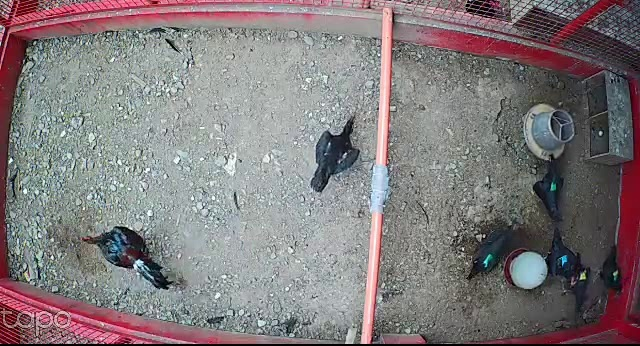Chicken: (307, 116, 362, 195), (531, 154, 567, 223), (546, 228, 581, 291), (465, 232, 508, 281), (588, 244, 626, 298), (560, 251, 591, 313)
Drinker: (502, 248, 547, 291)
Feeder: (524, 103, 575, 162)
Rooster: (78, 223, 176, 294)
Saddle_Color_Blue: (559, 255, 568, 267)
Saddle_Color_Yellow: (579, 270, 587, 281)
Saddle_Color_YellowGreen: (612, 269, 620, 282)
